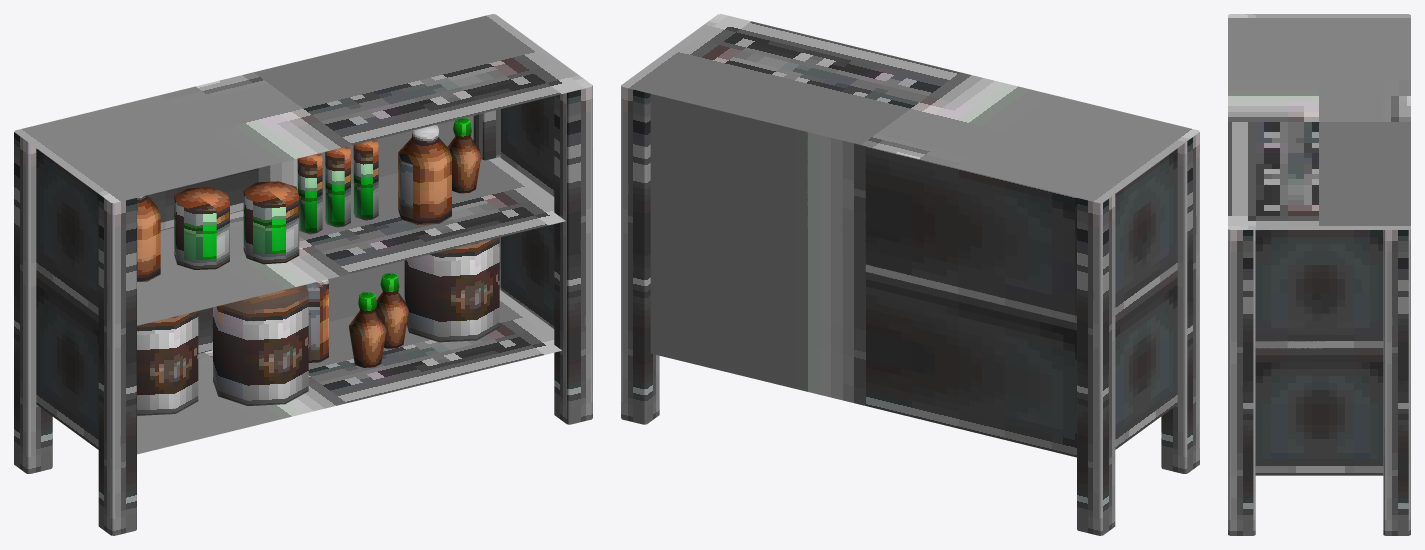
The model's file is int_mad_shelf.dae.
3 renders of one model, left to right at view 1: azimuth 30°, elevation 25°; view 2: azimuth 150°, elevation 25°; view 3: azimuth 270°, elevation 25°, orthographic. The views are drawn at different scales.
Visible parts, largest first — view 1: int_mad_shelf; view 2: int_mad_shelf; view 3: int_mad_shelf.
Part boxes in pixels (x1,y1,x2,y2): int_mad_shelf: (14, 14, 592, 535); int_mad_shelf: (621, 14, 1199, 535); int_mad_shelf: (1228, 14, 1410, 535).
Bounding box in the file's own units: 56 × 36.95 × 20.02.
Materials: 2 (2 with a texture image).
